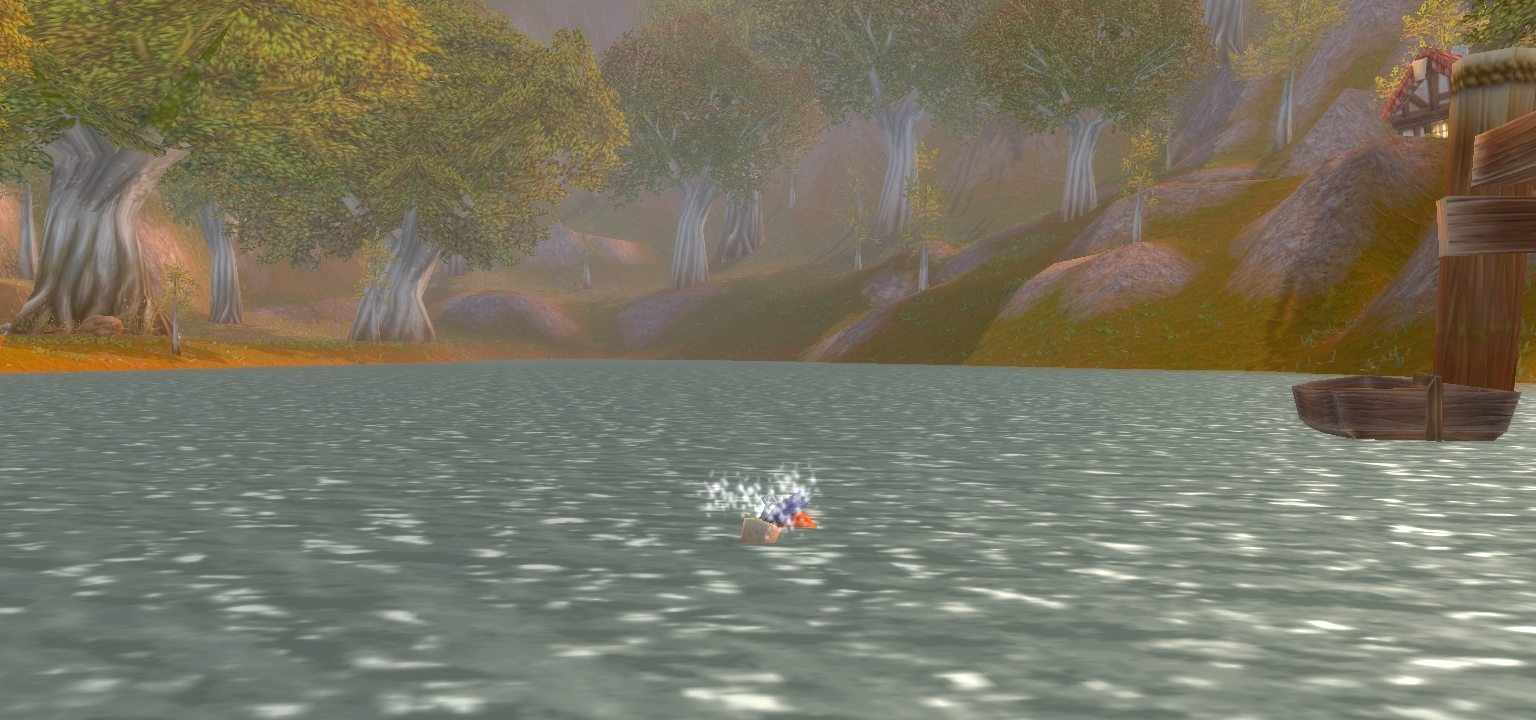Splash: (738, 486, 818, 546)
